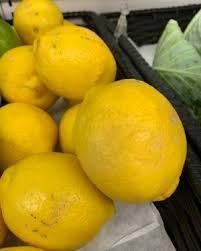lemon: (74, 78, 186, 202), (0, 151, 114, 251), (32, 24, 116, 100), (0, 46, 59, 110), (0, 102, 57, 168), (13, 0, 64, 45)
